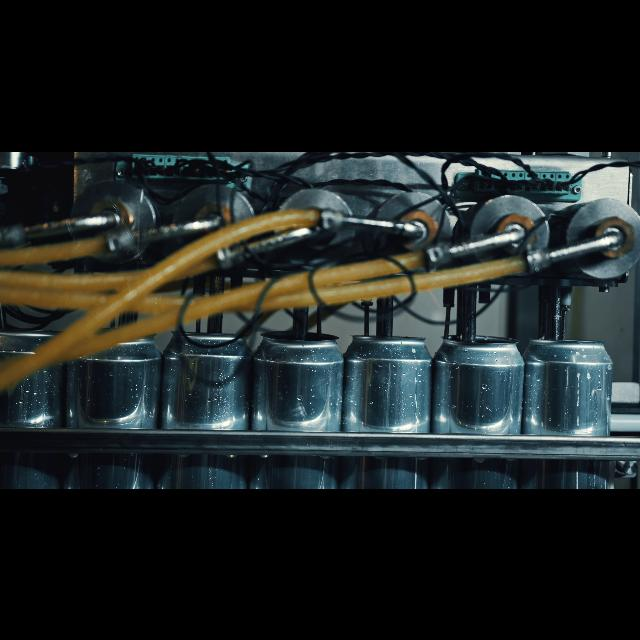empty: (344, 328, 434, 488), (82, 322, 166, 488), (258, 328, 344, 488), (525, 336, 615, 488), (168, 324, 250, 488), (438, 329, 522, 488), (0, 322, 76, 488)
